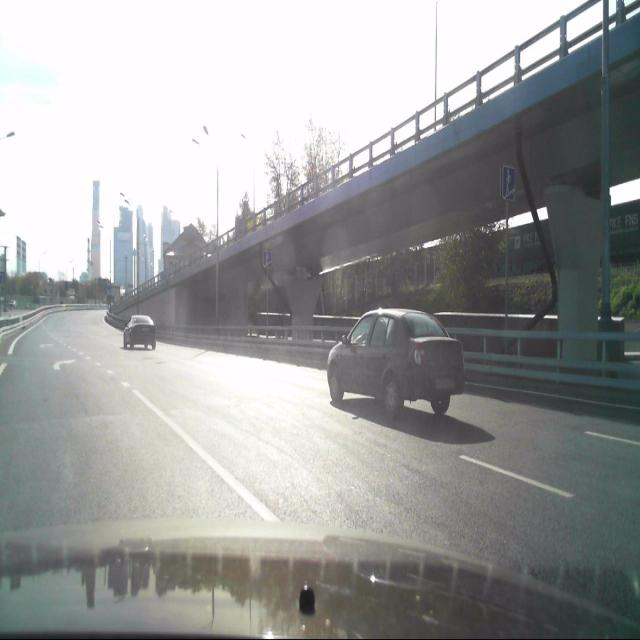road sign: (501, 166, 517, 204), (263, 249, 274, 270)
